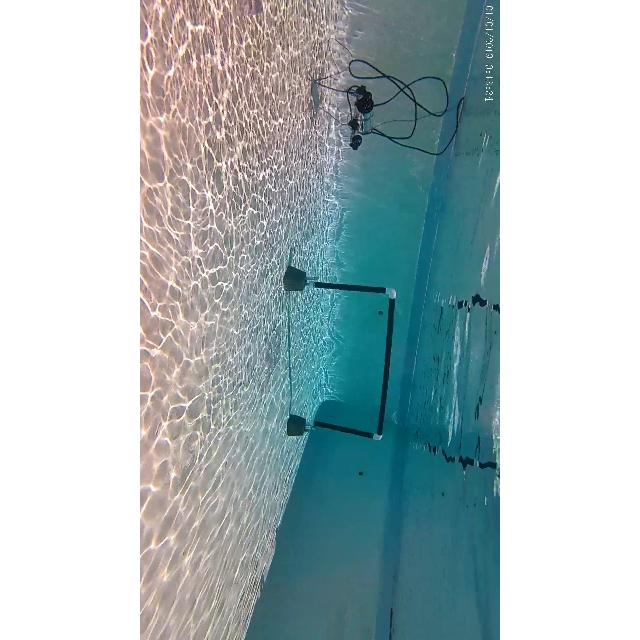prequal gate: (308, 281, 396, 441)
prequal gate leg l: (283, 260, 395, 304)
prequal gate leg r: (286, 410, 384, 444)
